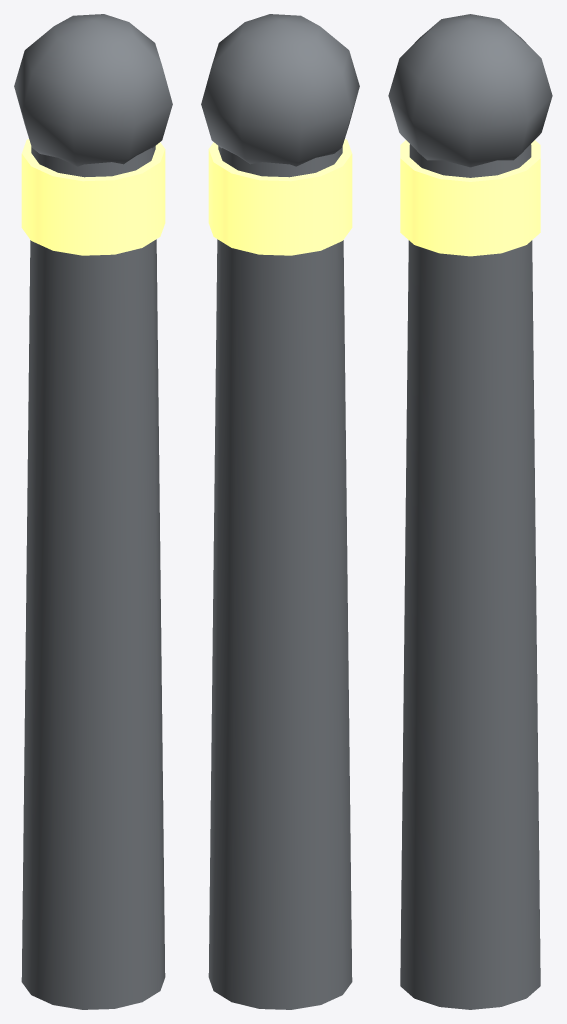
File: Bollard.glb
3 renders of one model, left to right at view 1: azimuth 30°, elevation 25°; view 2: azimuth 150°, elevation 25°; view 3: azimuth 270°, elevation 25°, orthographic.
Visible parts, largest first — view 1: model; view 2: model; view 3: model.
Part boxes in pixels (x1,y1,x2,y2): model: (14,14,172,1009); model: (201,14,359,1009); model: (388,14,552,1009).
Bounding box in the file's own units: 0.16 × 1.03 × 0.16.
